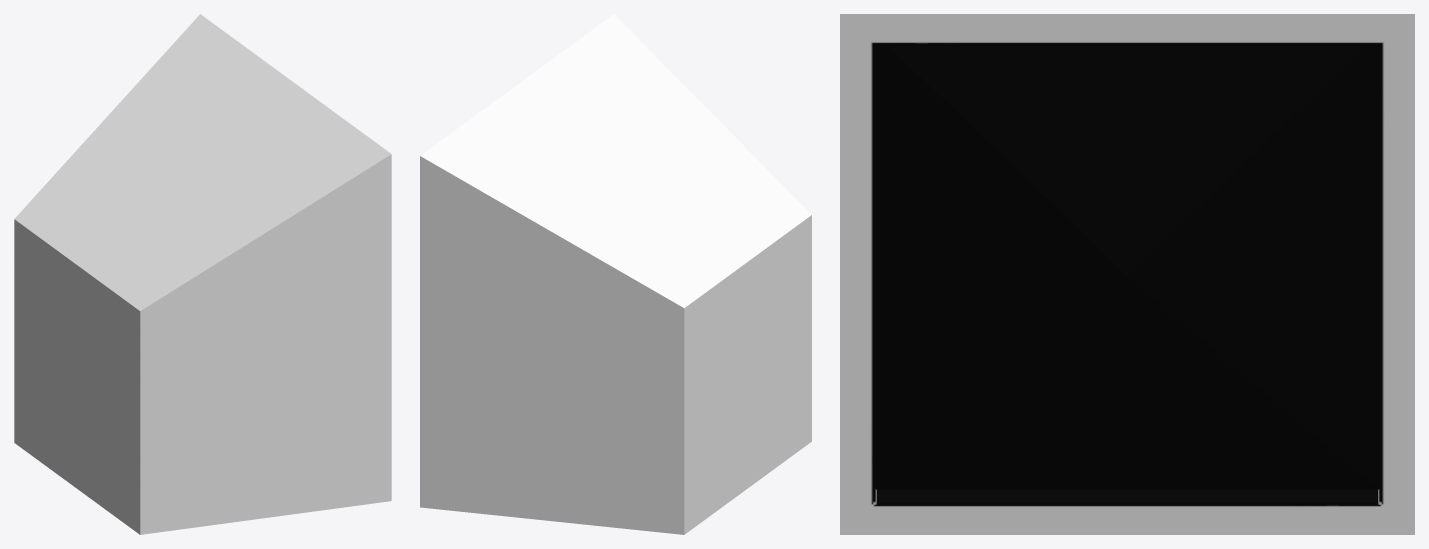
The model's file is computer.glb.
The picture shows the model from 3 angles, left to right: view 1: azimuth 30°, elevation 25°; view 2: azimuth 150°, elevation 25°; view 3: azimuth 270°, elevation 25°; orthographic projection. The views are drawn at different scales.
Visible parts, largest first — view 1: Cube; view 2: Cube; view 3: Cube.
Boxes of the visible parts, x1=… form: Cube: x1=14, y1=14, x2=391, y2=534; Cube: x1=420, y1=14, x2=811, y2=534; Cube: x1=840, y1=14, x2=1414, y2=534.
Size of what is drawn, in the model's own units: 1.36 by 2 by 2.
Materials: 1 (1 with a texture image).
